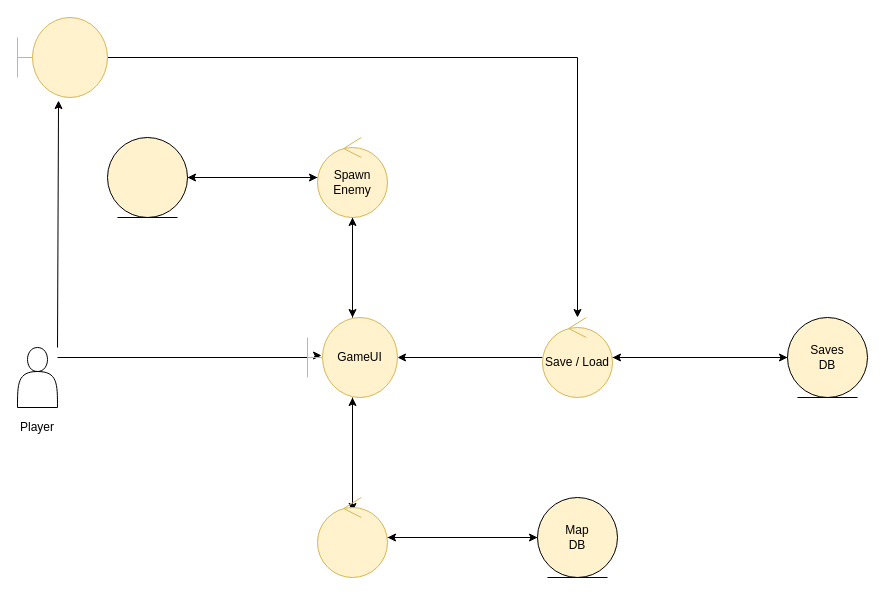
Image size: 885x595. Some labels were removed from this diagram. The shapes that lost their labels are listed below. From the top down, each one's centre as x and y in pixels, then its label:
pixel 62 57: MenuUI
pixel 147 177: Enemy DB
pixel 352 537: Initialize Map
